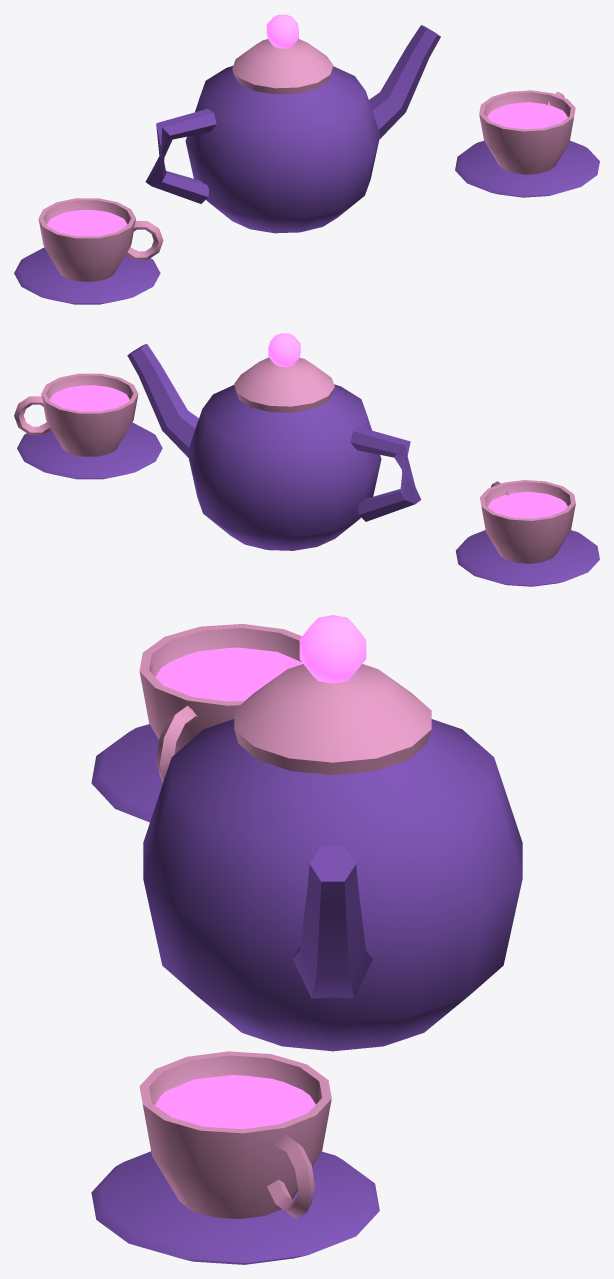
The model's file is Witch_Tea_Set.fbx.
3 renders of one model, top to bottom at view 1: azimuth 30°, elevation 25°; view 2: azimuth 150°, elevation 25°; view 3: azimuth 270°, elevation 25°, orthographic. The views are drawn at different scales.
Visible parts, largest first — view 1: Witch_Tea_Set_Teapot, Witch_Tea_Set_Cups; view 2: Witch_Tea_Set_Teapot, Witch_Tea_Set_Cups; view 3: Witch_Tea_Set_Teapot, Witch_Tea_Set_Cups.
Boxes of the visible parts, x1=… form: Witch_Tea_Set_Teapot: x1=145, y1=14, x2=440, y2=233; Witch_Tea_Set_Cups: x1=14, y1=90, x2=599, y2=304; Witch_Tea_Set_Teapot: x1=127, y1=333, x2=421, y2=550; Witch_Tea_Set_Cups: x1=14, y1=373, x2=599, y2=586; Witch_Tea_Set_Teapot: x1=143, y1=615, x2=522, y2=1051; Witch_Tea_Set_Cups: x1=91, y1=624, x2=379, y2=1264.
Bounding box in the file's own units: 0.6696 × 0.218 × 0.2217.
